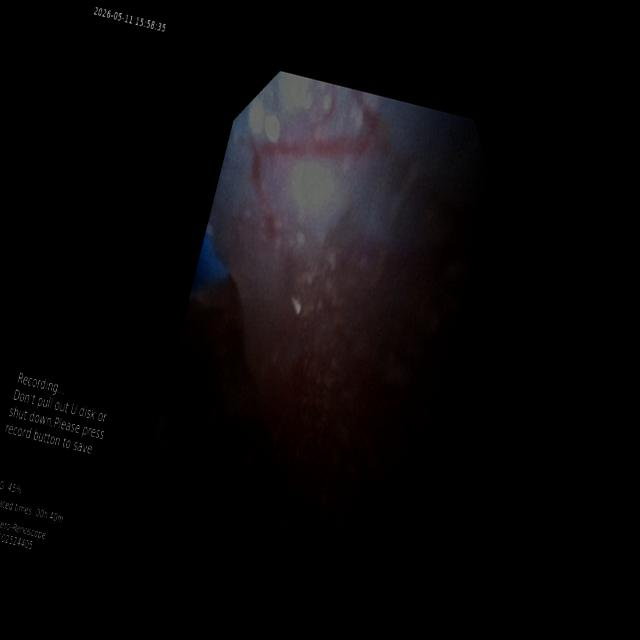laser-fibre: (196, 280, 237, 315)
